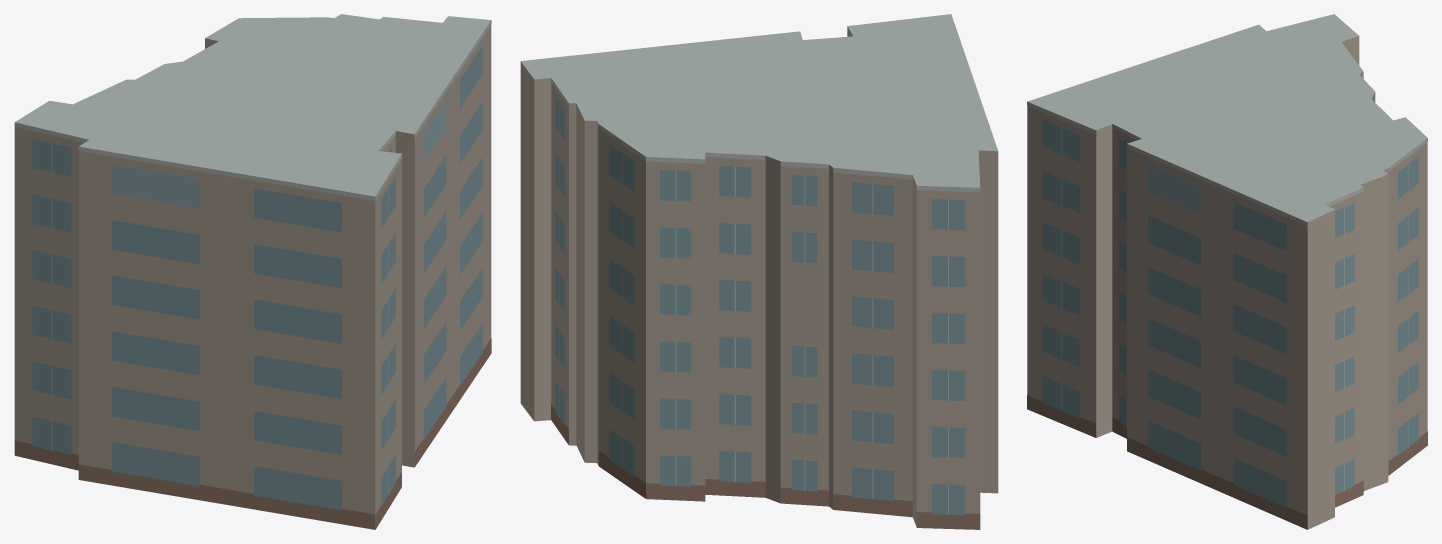
File: survey-upis-32496496.glb
3 renders of one model, left to right at view 1: azimuth 30°, elevation 25°; view 2: azimuth 150°, elevation 25°; view 3: azimuth 270°, elevation 25°, orthographic. The views are drawn at different scales.
Visible parts, largest first — view 1: survey-upis-32496496.tmp; view 2: survey-upis-32496496.tmp; view 3: survey-upis-32496496.tmp.
Boxes of the visible parts, x1,y1,x2,y2 form: survey-upis-32496496.tmp: (14, 14, 491, 529); survey-upis-32496496.tmp: (520, 14, 998, 529); survey-upis-32496496.tmp: (1027, 14, 1427, 529).
Size of the model in its own units: 26.72 by 18.4 by 21.72.
